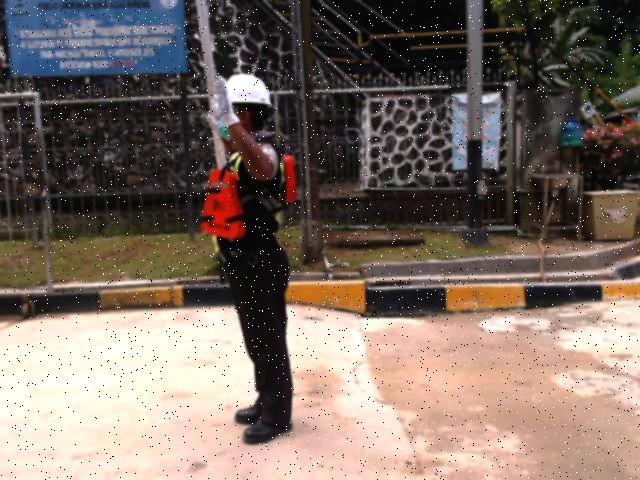gloves: (206, 76, 239, 129)
helmet: (215, 74, 277, 106)
safety-shoes: (241, 417, 295, 446), (234, 402, 264, 423)
vest: (198, 154, 296, 243)
